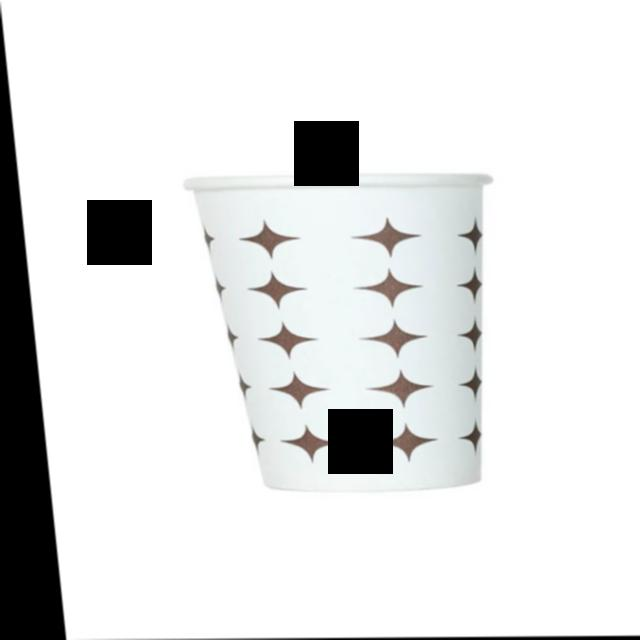karton-bardak: (175, 149, 535, 504)
